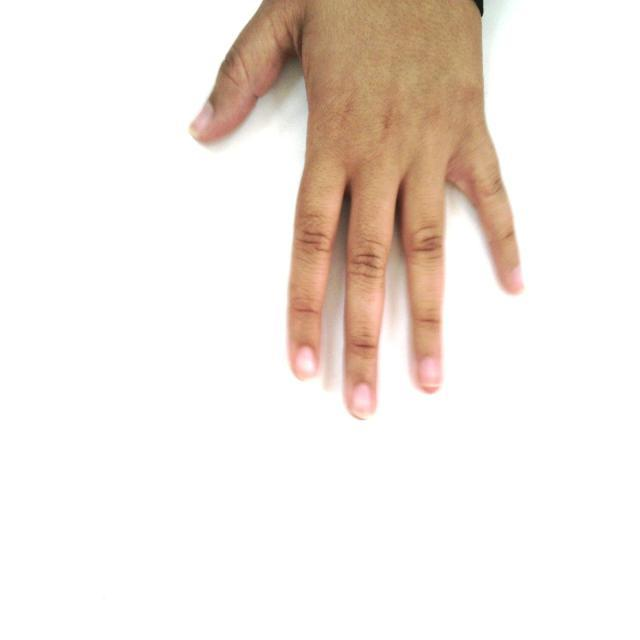Fingernail: (352, 383, 373, 418), (296, 346, 316, 378), (190, 103, 212, 132), (420, 357, 441, 386), (507, 268, 523, 292)
